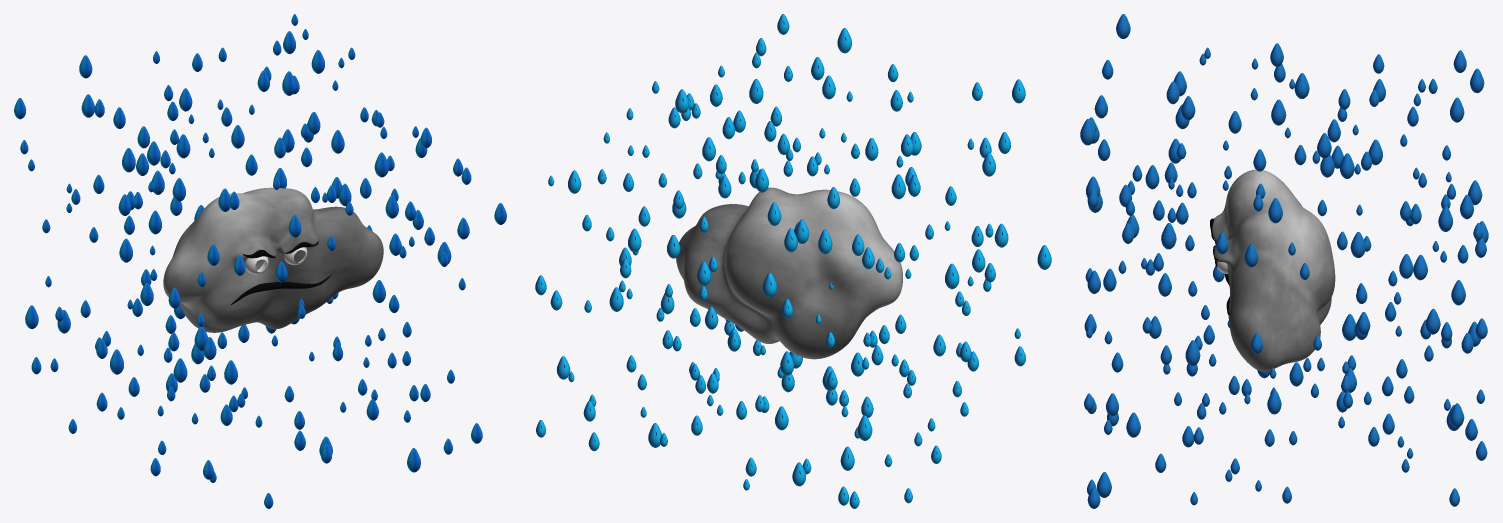
The model's file is rain.glb.
3 renders of one model, left to right at view 1: azimuth 30°, elevation 25°; view 2: azimuth 150°, elevation 25°; view 3: azimuth 270°, elevation 25°, orthographic. The views are drawn at different scales.
Visible parts, largest first — view 1: Regen, Wolke; view 2: Regen, Wolke; view 3: Regen, Wolke.
Boxes of the visible parts, x1,y1,x2,y2 form: Regen: (14, 14, 506, 508); Wolke: (163, 187, 383, 332); Regen: (535, 14, 1051, 508); Wolke: (676, 187, 902, 359); Regen: (1080, 14, 1488, 508); Wolke: (1210, 169, 1335, 371).
Bounding box in the file's own units: 6.24 × 6.32 × 6.23.
Materials: 5 (2 with a texture image).
